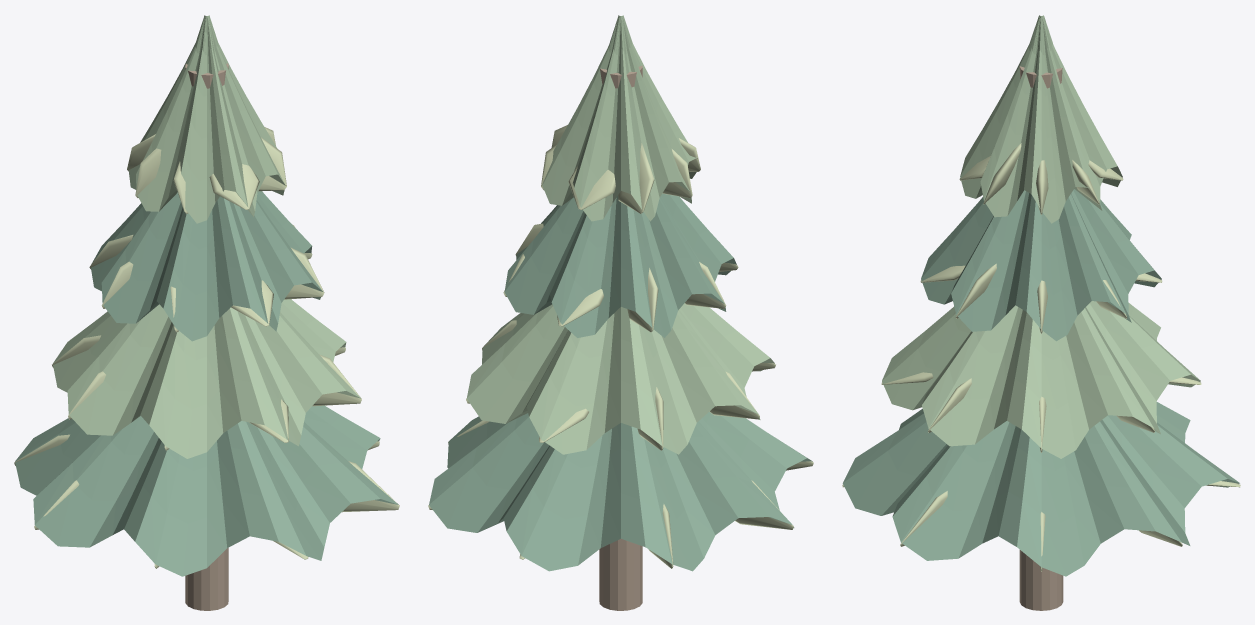
Rendered from library_tree_pine.glb.
The picture shows the model from 3 angles, left to right: view 1: azimuth 30°, elevation 25°; view 2: azimuth 150°, elevation 25°; view 3: azimuth 270°, elevation 25°; orthographic projection.
Visible parts, largest first — view 1: decor_466d54_matte, decor_709568_matte, decor_9bab72_matte, decor_806751_matte; view 2: decor_466d54_matte, decor_709568_matte, decor_9bab72_matte, decor_806751_matte; view 3: decor_466d54_matte, decor_709568_matte, decor_9bab72_matte, decor_806751_matte.
Part boxes in pixels (box(x1,y1,x2,y2)): decor_466d54_matte: box(15, 191, 398, 576); decor_709568_matte: box(53, 15, 360, 458); decor_9bab72_matte: box(14, 127, 399, 568); decor_806751_matte: box(185, 63, 228, 610); decor_466d54_matte: box(429, 193, 812, 571); decor_709568_matte: box(466, 15, 774, 454); decor_9bab72_matte: box(428, 125, 813, 568); decor_806751_matte: box(599, 65, 642, 610); decor_466d54_matte: box(842, 189, 1239, 576); decor_709568_matte: box(882, 15, 1200, 458); decor_9bab72_matte: box(842, 143, 1240, 571); decor_806751_matte: box(1019, 66, 1063, 610).
Bounding box in the file's own units: 2.55 × 4.13 × 2.54.
